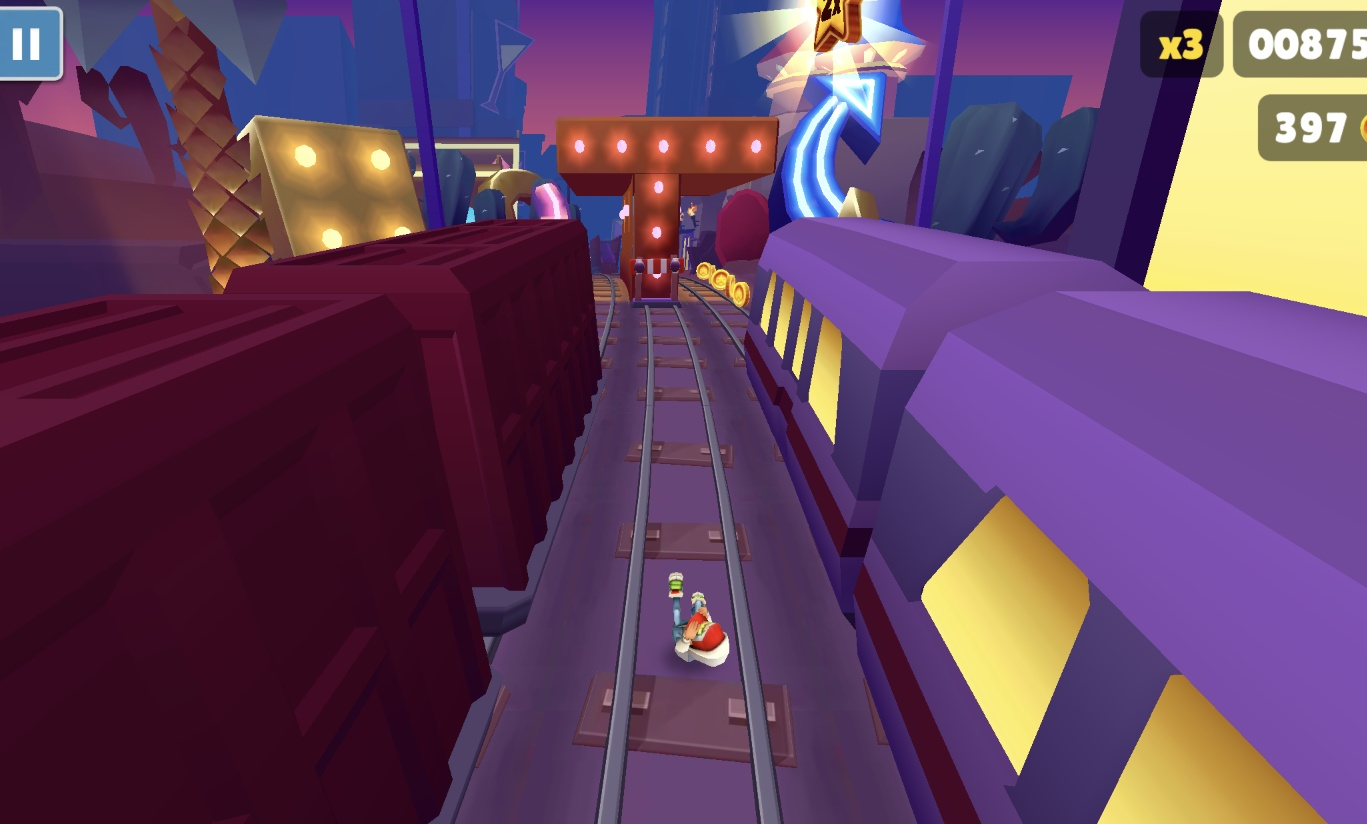ground_barrier: (628, 256, 688, 311)
pillar: (622, 173, 684, 304)
train: (748, 215, 1367, 824), (0, 216, 602, 824)
